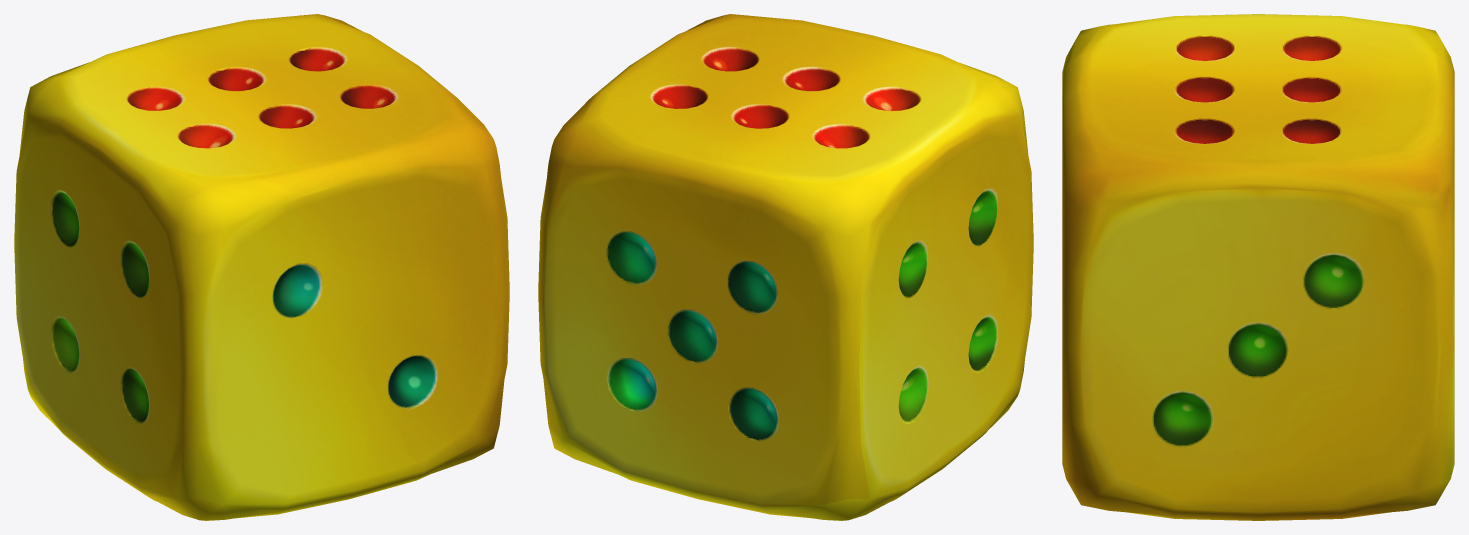
File: ShaiZi.gltf
The picture shows the model from 3 angles, left to right: view 1: azimuth 30°, elevation 25°; view 2: azimuth 150°, elevation 25°; view 3: azimuth 270°, elevation 25°; orthographic projection. The views are drawn at different scales.
Visible parts, largest first — view 1: default009; view 2: default009; view 3: default009.
Boxes of the visible parts, box(x1,y1,x2,y2) form: default009: box(14, 14, 509, 520); default009: box(538, 14, 1033, 520); default009: box(1062, 14, 1454, 520).
Size of the model in its own units: 250604 by 250604 by 250603.
1 material, 1 textured.
